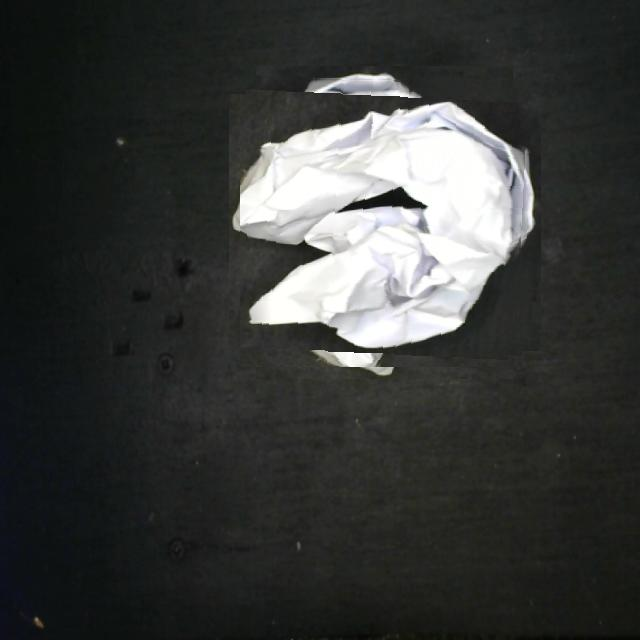biodegradable: (240, 78, 529, 367)
